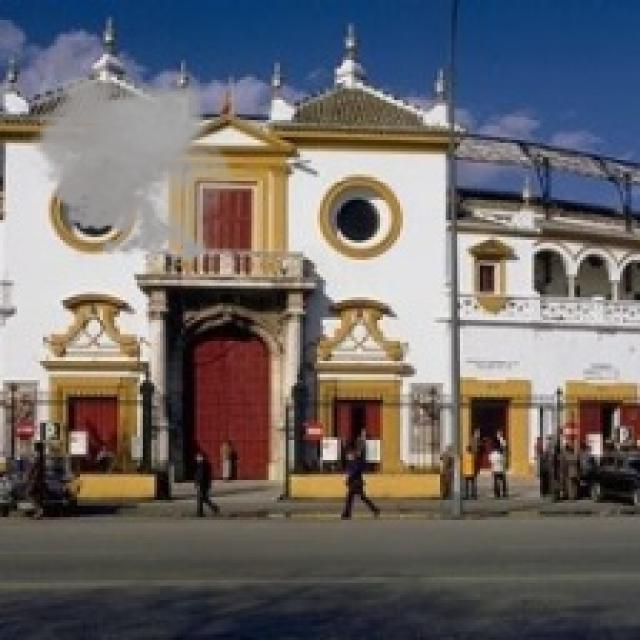Smoke: (23, 69, 243, 268)
